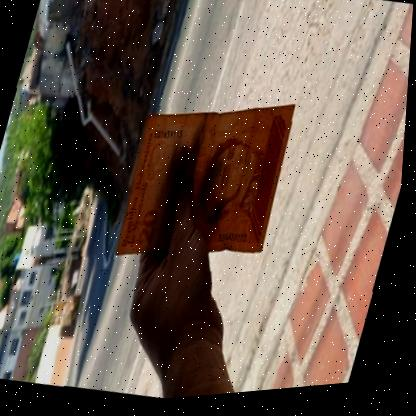twenty-front-vef: (109, 79, 305, 290)
